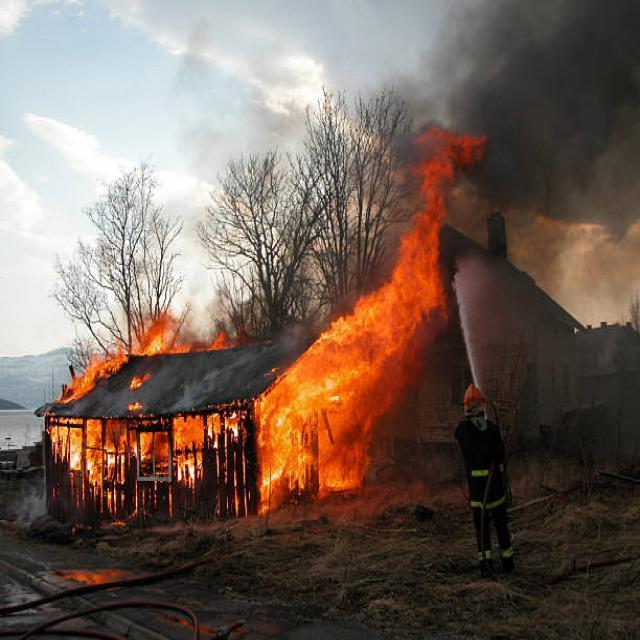Fire: (240, 297, 432, 502), (76, 315, 284, 502), (372, 125, 479, 324)
Smoke: (409, 17, 640, 256), (300, 110, 420, 316), (520, 216, 628, 343)
